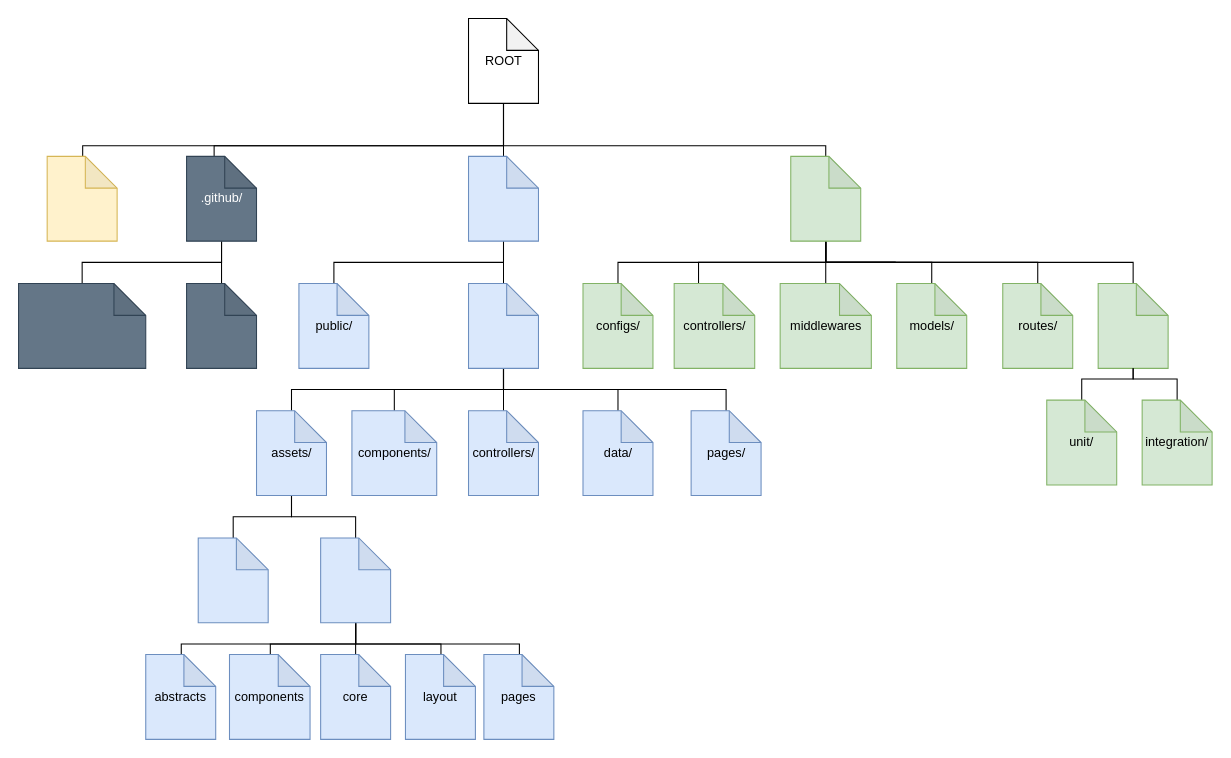
Some shapes in this 1231 by 758 pixel diagram are drawn without their labels. Each missing label, with the centre of its shape:
backend/: point (825, 198)
docs/: point (81, 198)
frontend/: point (502, 198)
images/: point (232, 580)
ISSUE_TEMPLATE/: point (81, 325)
src/: point (502, 325)
styles/: point (355, 580)
tests/: point (1132, 325)
workflows/: point (221, 325)
